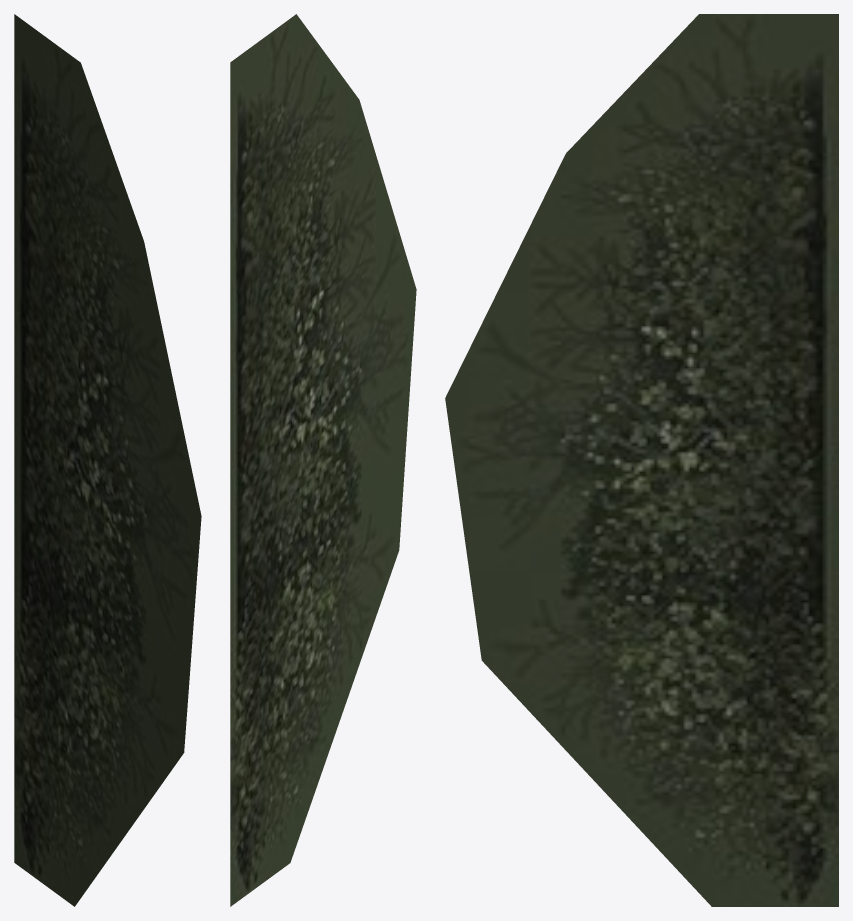
File: shadow_caen_hedge_wall_3.glb
3 views of the same model, side by side, from view 1: azimuth 30°, elevation 25°; view 2: azimuth 150°, elevation 25°; view 3: azimuth 270°, elevation 25° (orthographic). The views are drawn at different scales.
Bounding box in the file's own units: 4.77e-05 × 327 × 131.
Materials: 1 (1 with a texture image).
